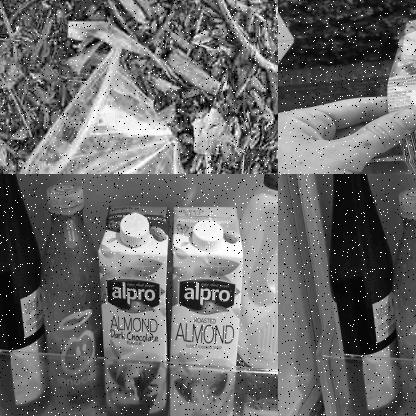cardboard: (174, 207, 245, 415), (100, 206, 170, 415)
glass: (317, 174, 404, 415), (0, 174, 52, 415)
plastic: (18, 40, 206, 173), (40, 176, 103, 415), (243, 174, 277, 415), (392, 181, 415, 415)
